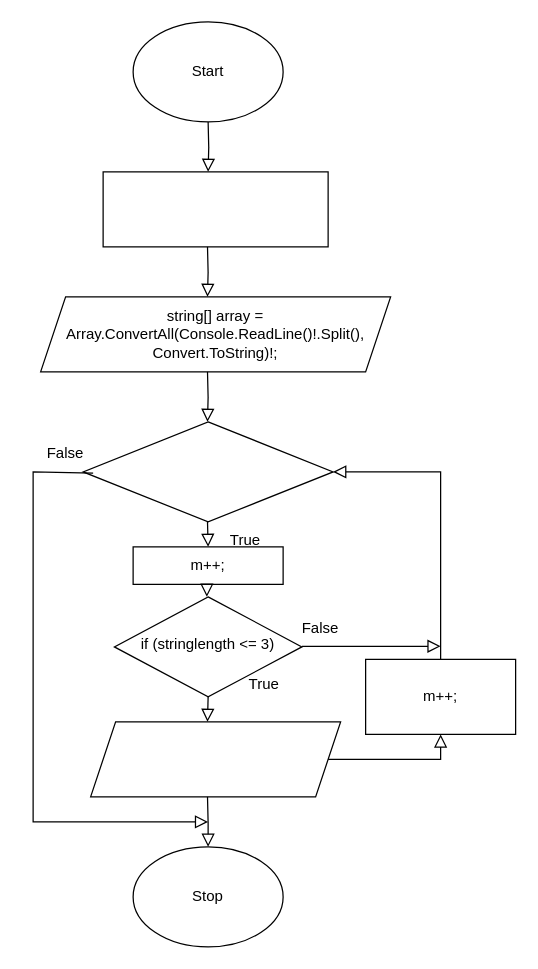
Image size: 538x969. Some labels were removed from this diagram. Here are the shapes that lost their labels. From the top down, the centre of each, then its label:
[215,209]: int i, j, m = 0; j = array.Length; string[] newarray = new string[j];
[207,471]: for (i = 0; i < array.Length; i++)
[215,759]: newarray[m] = array[i]; Console.Write(newarray[m] + ", ");
